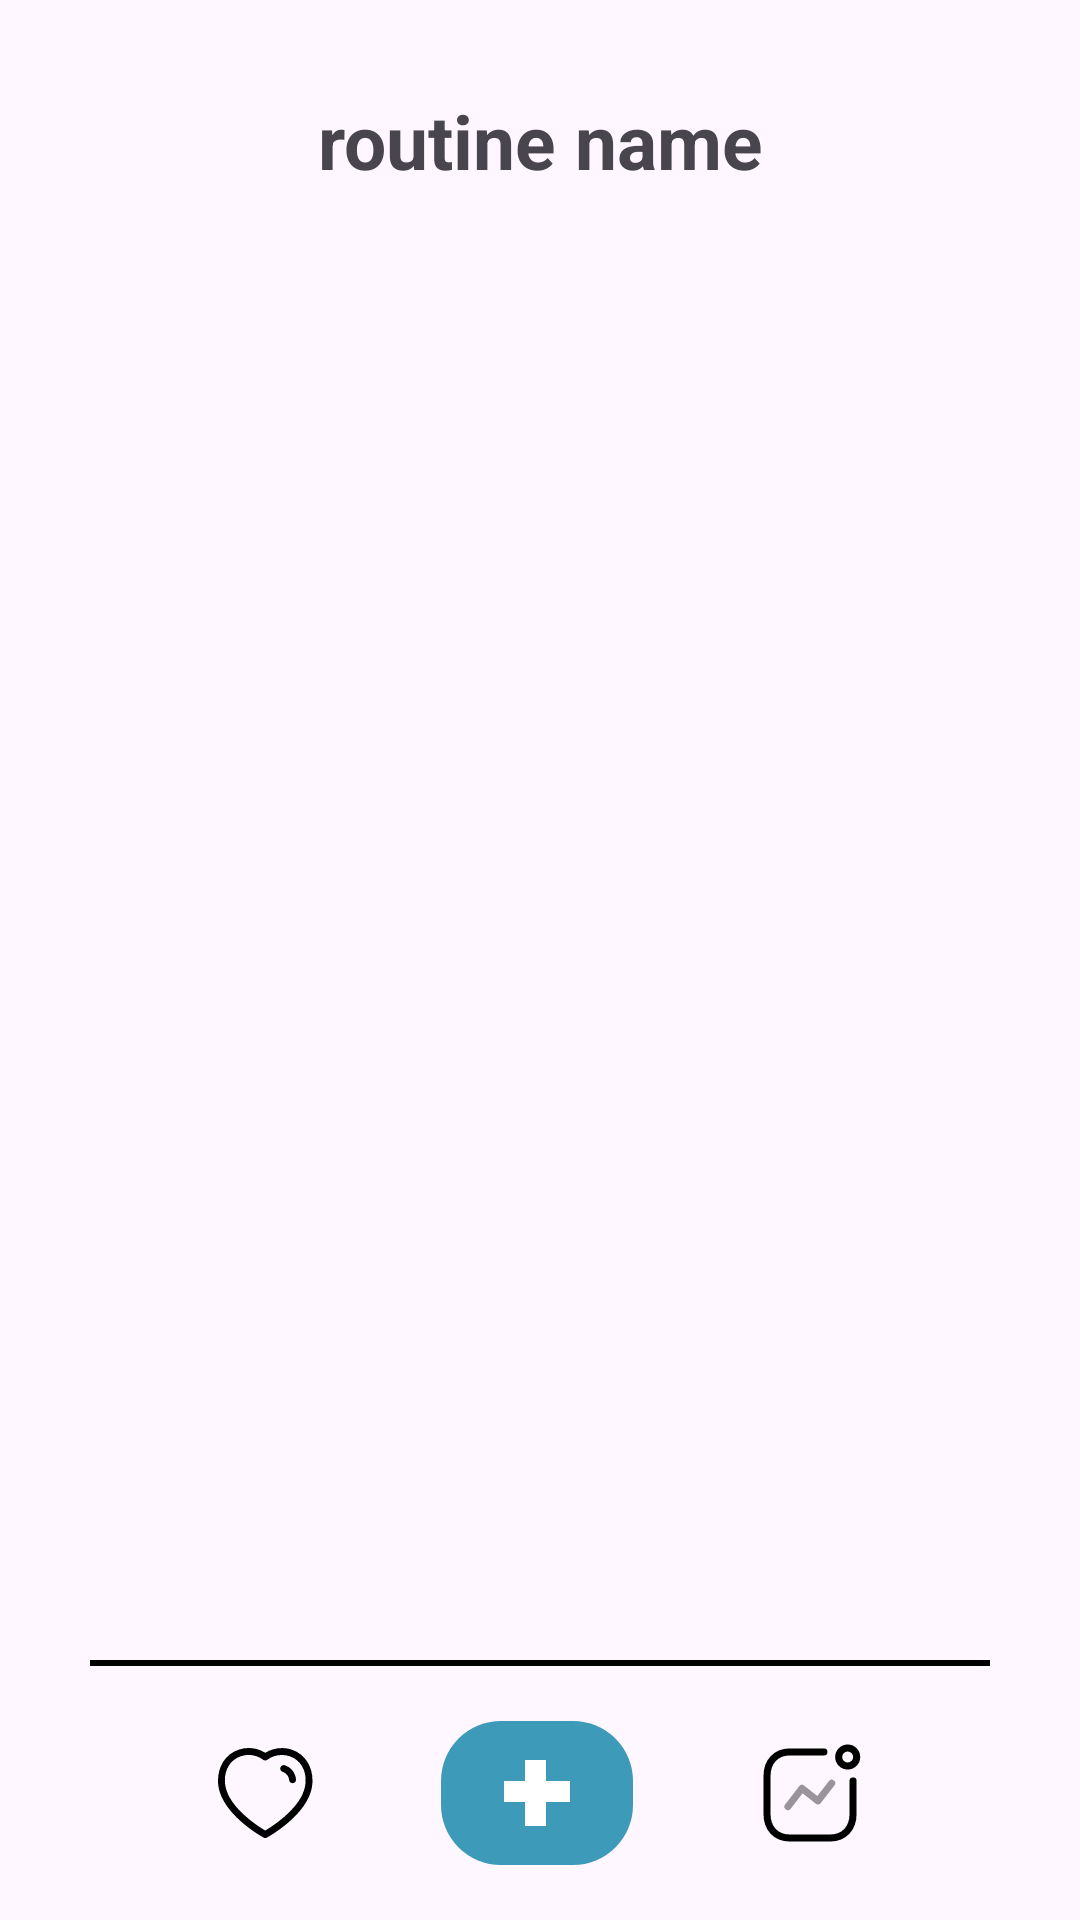

Screen size 1080×1920. Icon name, then its box in pixels as (x1, y1, x2, y2):
addition: (441, 1721, 633, 1865)
heart: (218, 1748, 313, 1838)
progress: (763, 1744, 861, 1842)
